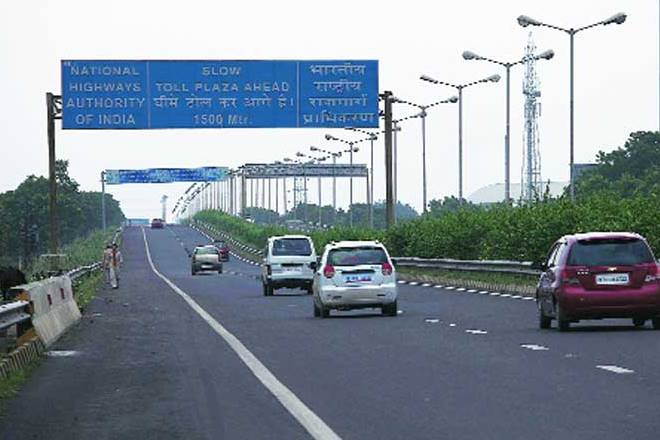Car: (530, 228, 660, 330), (313, 239, 404, 324), (258, 233, 320, 297)
